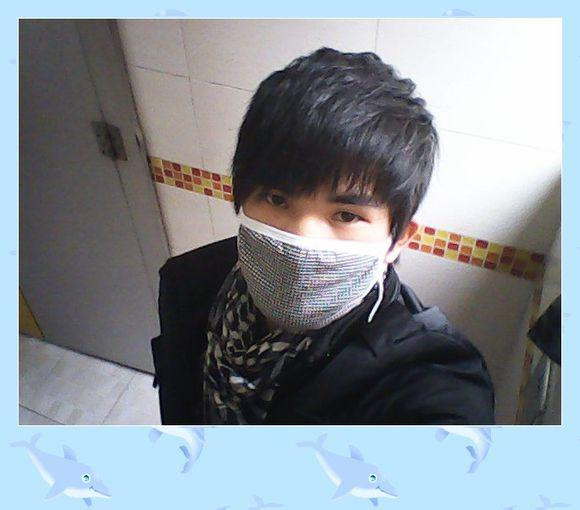OK: (242, 167, 391, 328)
